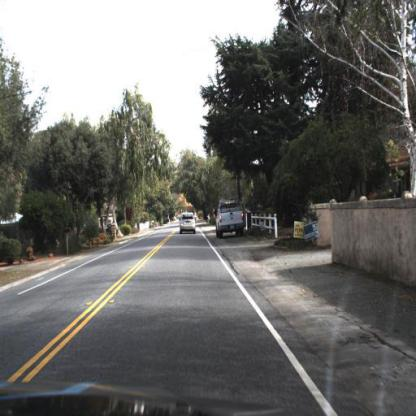car: (215, 199, 246, 237), (178, 213, 198, 236)
